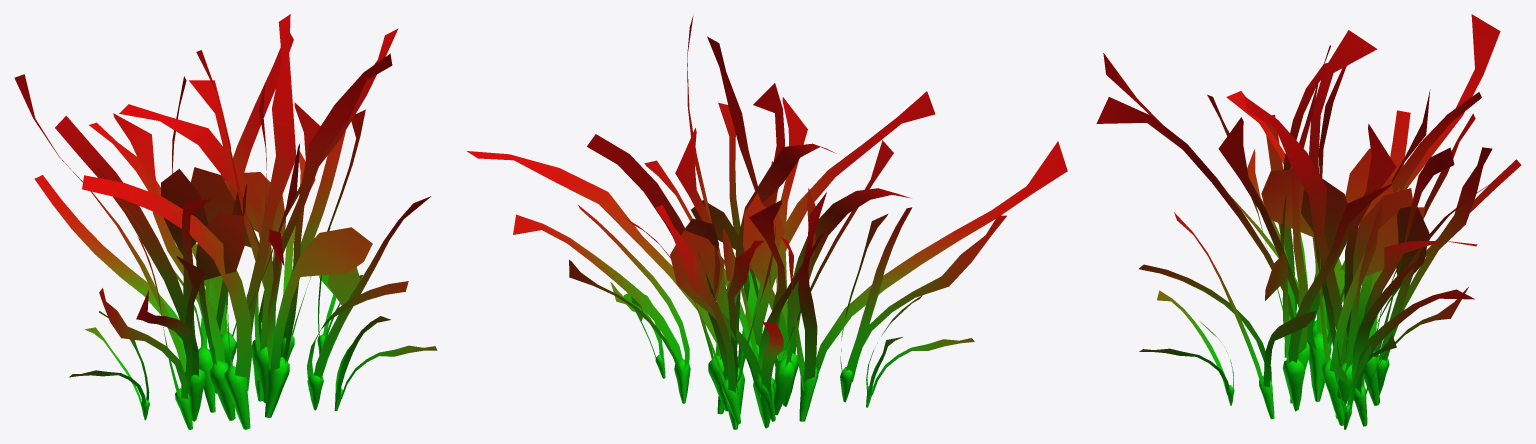
File: Var5_LOD1.fbx
3 renders of one model, left to right at view 1: azimuth 30°, elevation 25°; view 2: azimuth 150°, elevation 25°; view 3: azimuth 270°, elevation 25°, orthographic. The views are drawn at different scales.
Parts seen in each view (by area): view 1: _3809_Var5_LOD1; view 2: _3809_Var5_LOD1; view 3: _3809_Var5_LOD1.
Boxes of the visible parts, <box> form: _3809_Var5_LOD1: <box>14,14,437,429</box>; _3809_Var5_LOD1: <box>467,16,1067,429</box>; _3809_Var5_LOD1: <box>1096,14,1521,429</box>.
Bounding box in the file's own units: 35.09 × 29.07 × 28.79.
